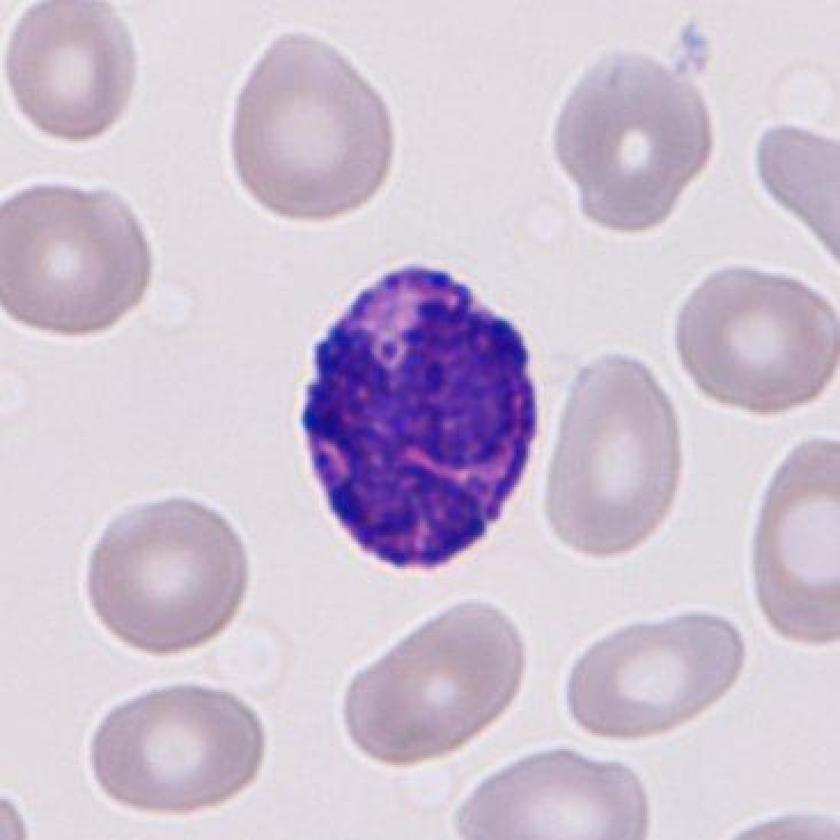basophil: (293, 251, 548, 577)
